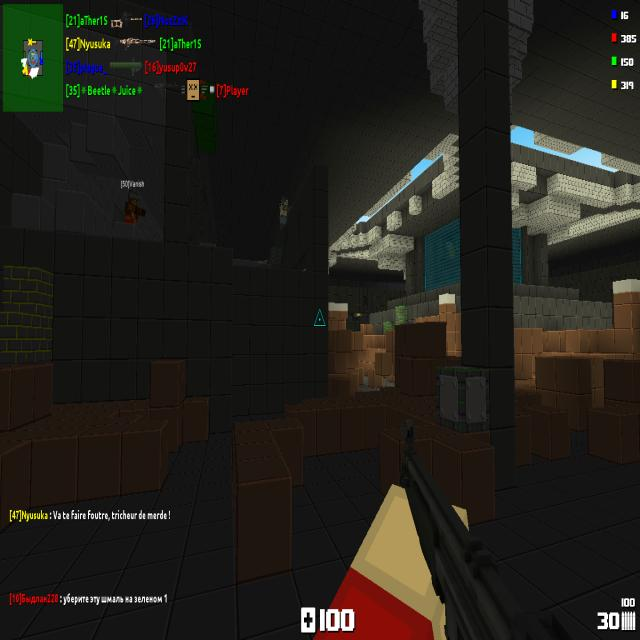enemy: (280, 192, 290, 232)
